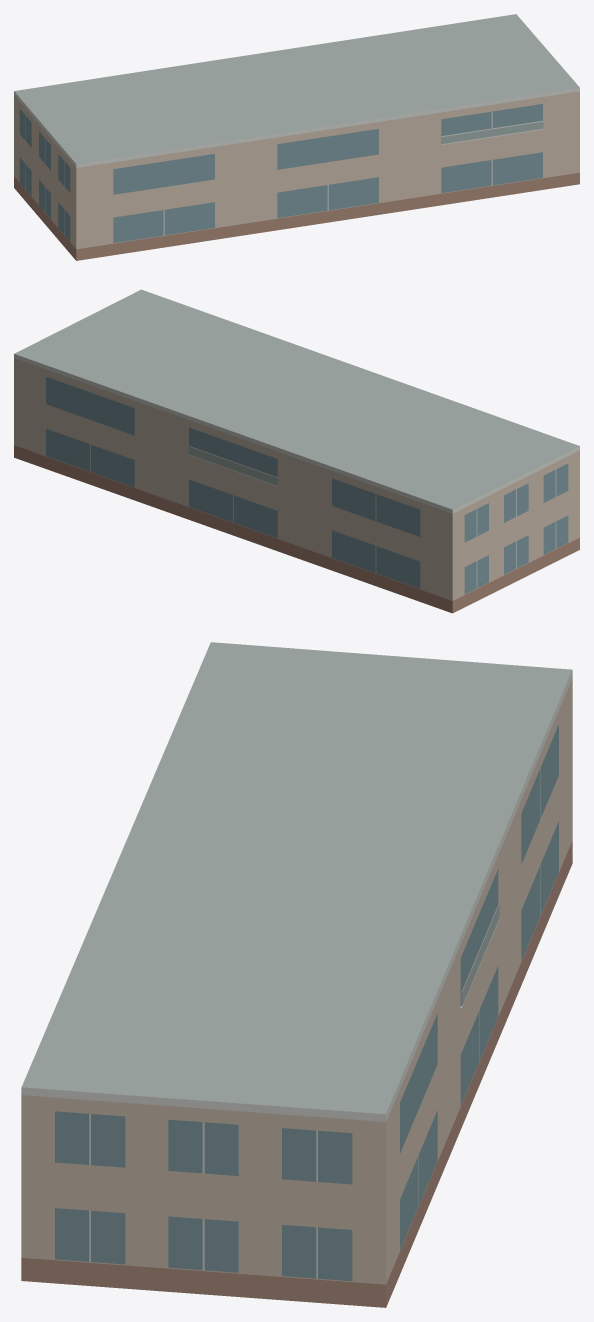
Rendered from survey-upis-32922896.glb.
3 renders of one model, top to bottom at view 1: azimuth 30°, elevation 25°; view 2: azimuth 150°, elevation 25°; view 3: azimuth 270°, elevation 25°, orthographic. The views are drawn at different scales.
Visible parts, largest first — view 1: survey-upis-32922896.tmp; view 2: survey-upis-32922896.tmp; view 3: survey-upis-32922896.tmp.
Boxes of the visible parts, x1=… form: survey-upis-32922896.tmp: x1=14, y1=14, x2=579, y2=260; survey-upis-32922896.tmp: x1=14, y1=289, x2=579, y2=613; survey-upis-32922896.tmp: x1=21, y1=642, x2=572, y2=1307.
Bounding box in the file's own units: 31.93 × 6.1 × 15.75.
